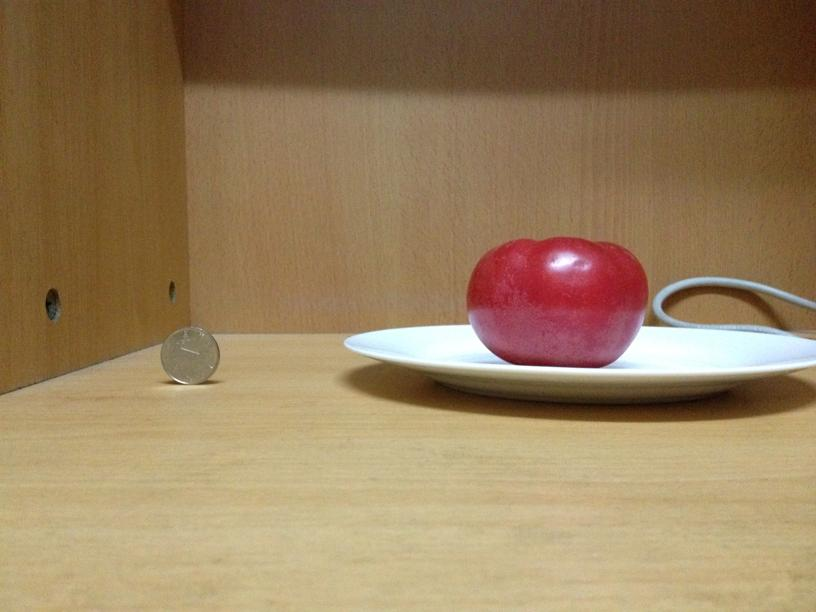coin: (151, 324, 221, 386)
tomato: (463, 237, 650, 370)
